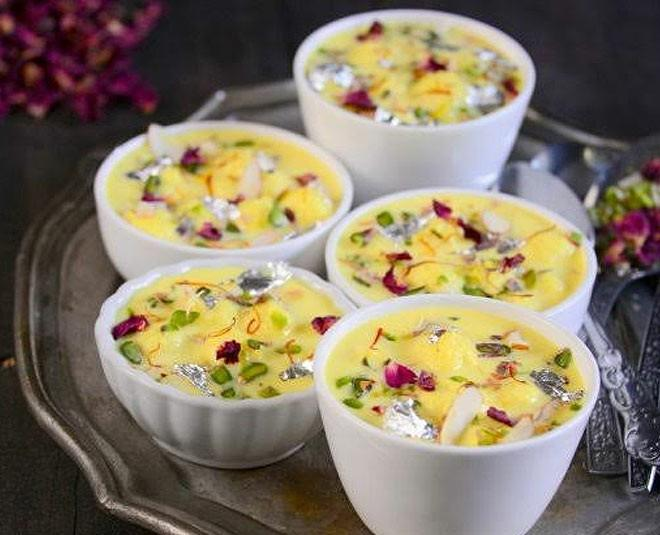RasMalai: (326, 308, 587, 447), (111, 266, 339, 397), (337, 195, 587, 311), (108, 129, 341, 249), (303, 19, 524, 125)
